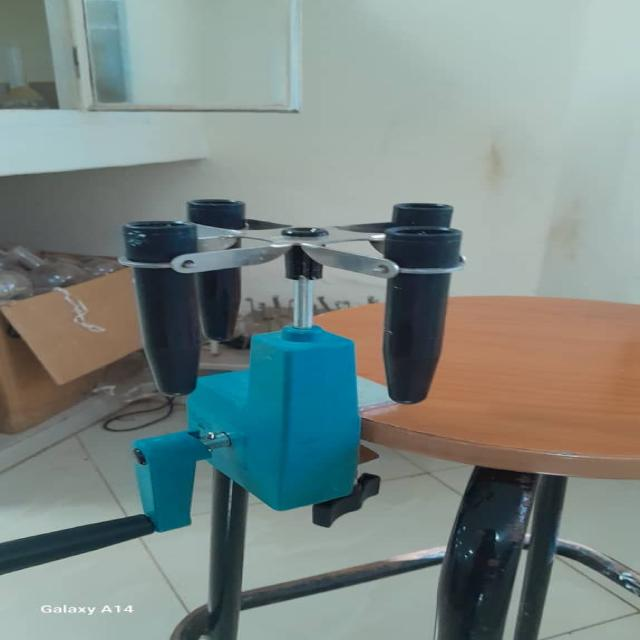Centrifuge: (81, 188, 465, 537)
